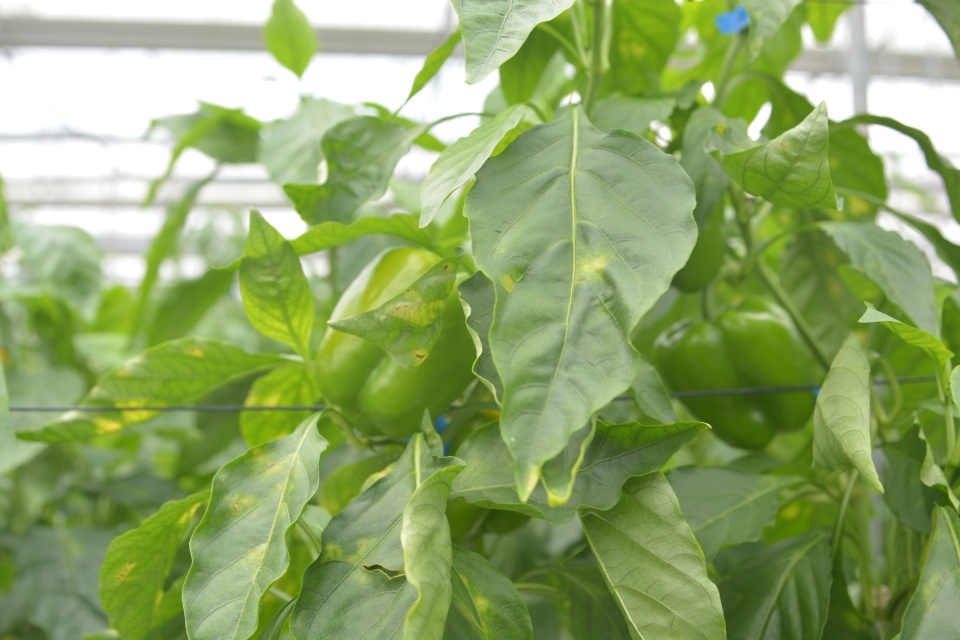fruit: (313, 240, 479, 447), (648, 293, 820, 451)
